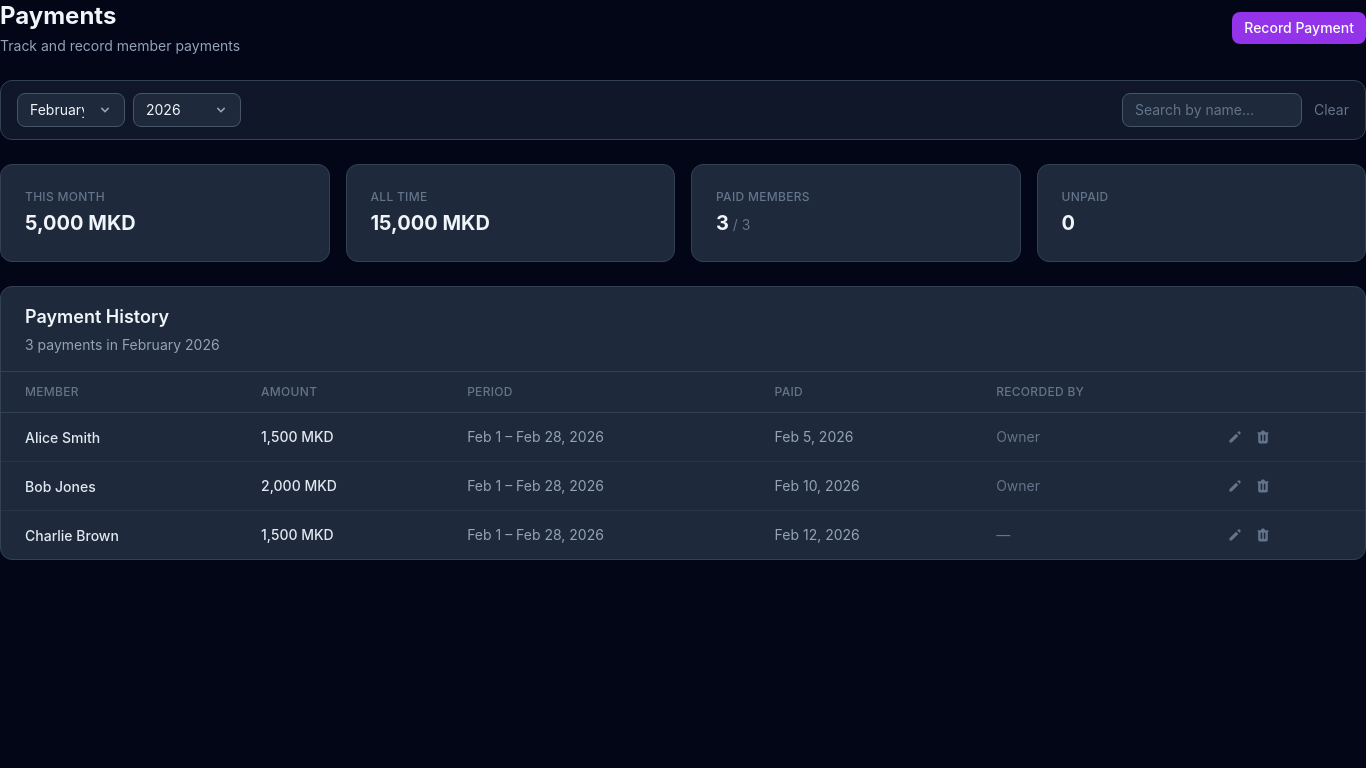
Test: PaymentsClient › delete payment flow › opens confirmation modal when delete button is clicked
Click the button named "Delete payment for".
click(1263, 437)  # box [1251, 425, 1275, 449]
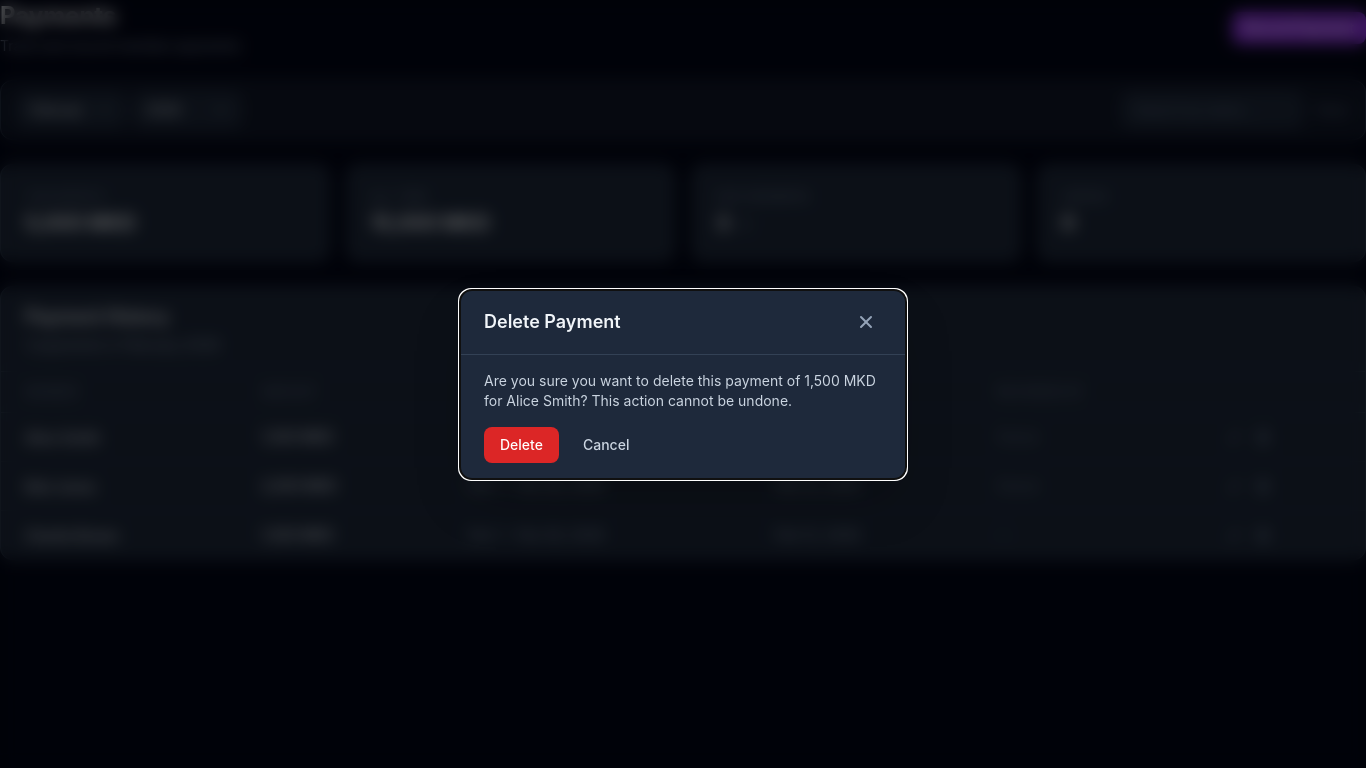
Now the heading "Delete Payment" is shown, box [484, 308, 621, 336]
Now the text "cannot be undone" is shown, box [484, 372, 876, 408]
